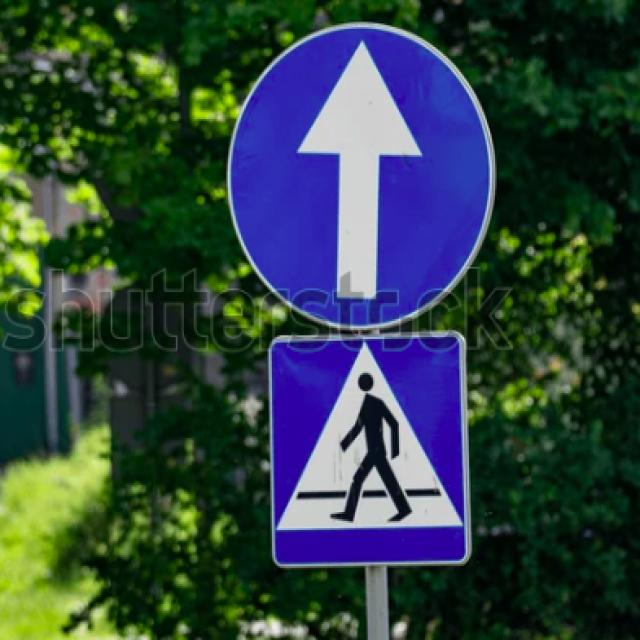STRAIGHT: (230, 25, 493, 323)
